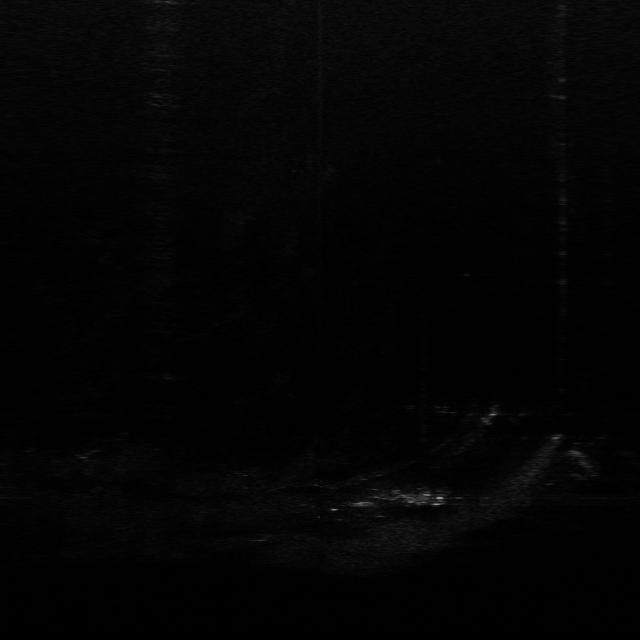rov: (414, 486, 448, 510)
